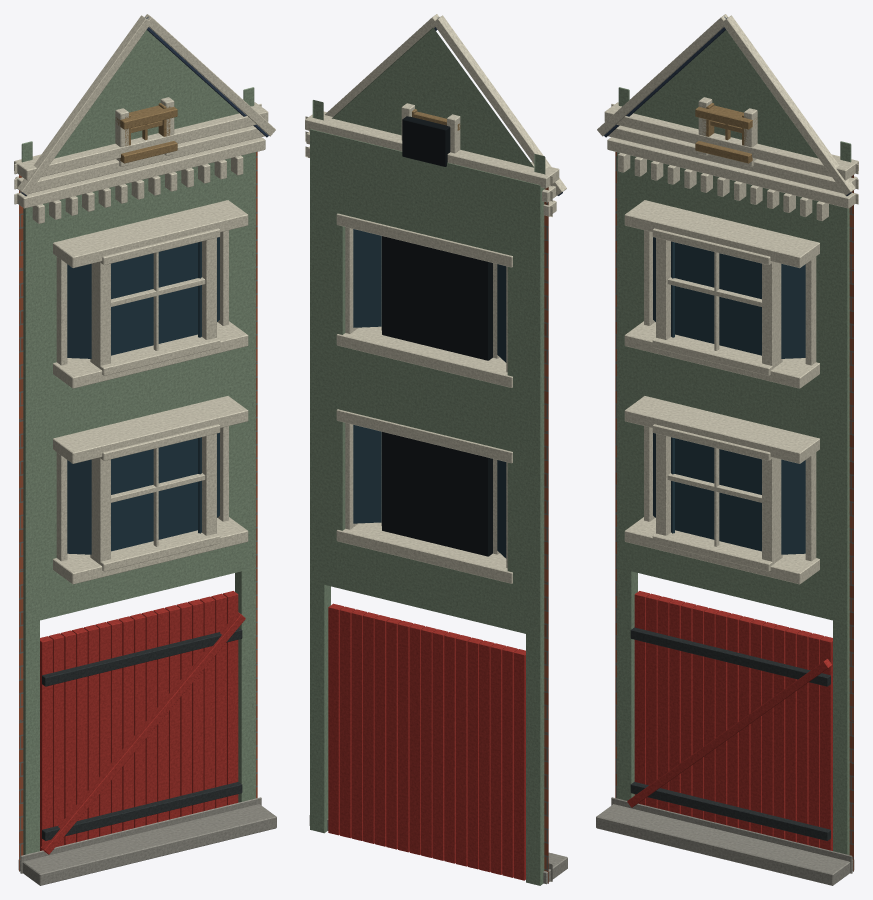
The model's file is VICT12_lod1.glb.
3 renders of one model, left to right at view 1: azimuth 30°, elevation 25°; view 2: azimuth 150°, elevation 25°; view 3: azimuth 330°, elevation 25°, orthographic.
Parts seen in each view (by area): view 1: VICT12_FRONT_LOD1; view 2: VICT12_FRONT_LOD1; view 3: VICT12_FRONT_LOD1.
Part boxes in pixels (left/top/right/bottom): VICT12_FRONT_LOD1: left=14, top=14, right=276, bottom=885; VICT12_FRONT_LOD1: left=305, top=14, right=567, bottom=885; VICT12_FRONT_LOD1: left=596, top=14, right=858, bottom=885.
Bounding box in the file's own units: 3.53 × 11.05 × 0.705.
11 materials, 9 textured.
